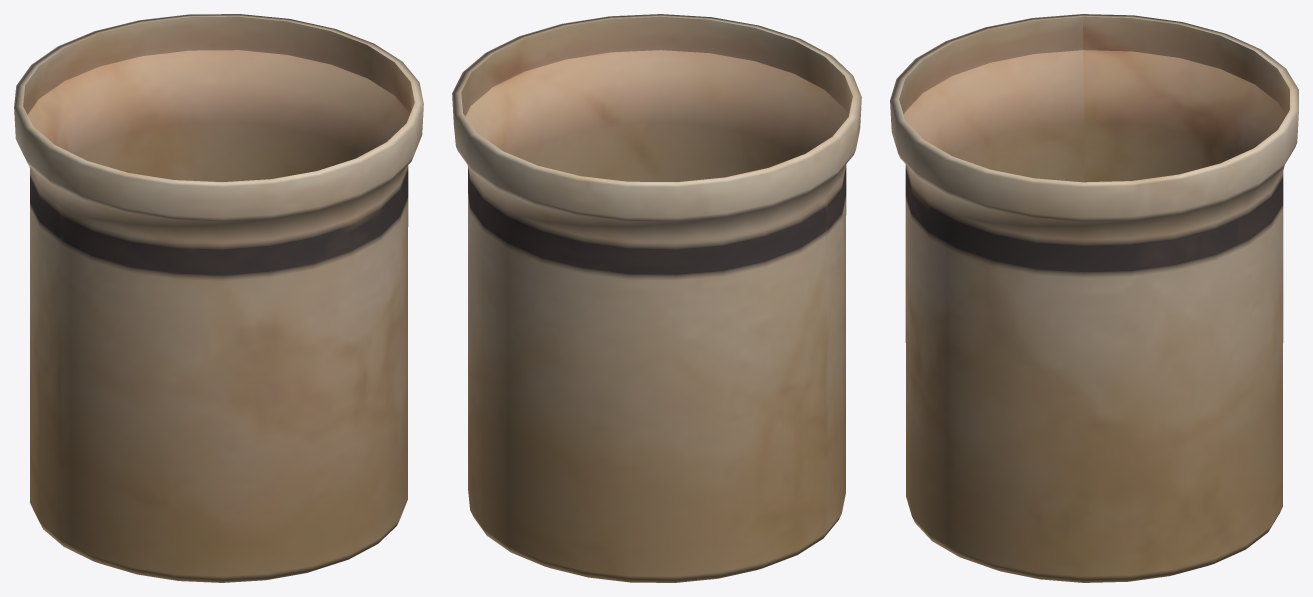
The model's file is SM_ClayVases_01.fbx.
3 renders of one model, left to right at view 1: azimuth 30°, elevation 25°; view 2: azimuth 150°, elevation 25°; view 3: azimuth 270°, elevation 25°, orthographic.
Visible parts, largest first — view 1: SM_ClayVases_01_LOD0; view 2: SM_ClayVases_01_LOD0; view 3: SM_ClayVases_01_LOD0.
Part boxes in pixels (x1,y1,x2,y2): SM_ClayVases_01_LOD0: (14,14,423,582); SM_ClayVases_01_LOD0: (452,14,861,582); SM_ClayVases_01_LOD0: (890,14,1298,582).
Bounding box in the file's own units: 20.33 × 20.29 × 22.4.
1 material, 1 textured.
